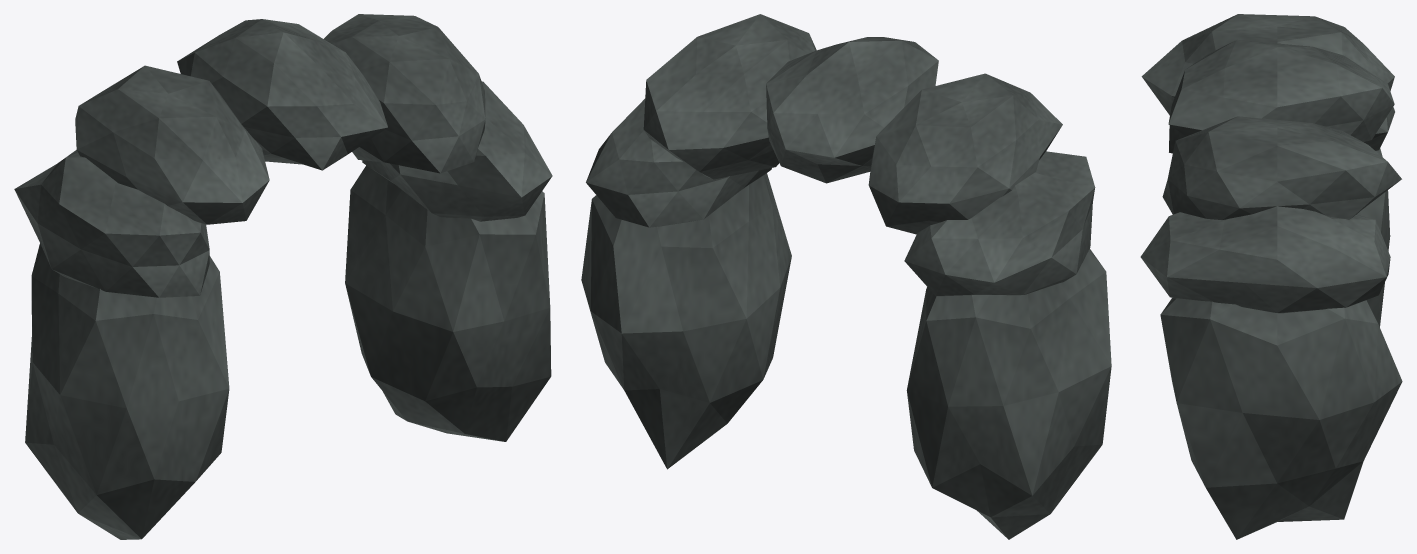
Rendered from sea_cave.glb.
3 views of the same model, side by side, from view 1: azimuth 30°, elevation 25°; view 2: azimuth 150°, elevation 25°; view 3: azimuth 270°, elevation 25° (orthographic). The views are drawn at different scales.
Visible parts, largest first — view 1: ArchPier, ArchPier.001, ArchCrown.003, ArchCrown.002, ArchCrown.004, ArchCrown.001, ArchCrown; view 2: ArchPier, ArchPier.001, ArchCrown.003, ArchCrown.001, ArchCrown.004, ArchCrown.002, ArchCrown; view 3: ArchPier.001, ArchCrown, ArchCrown.001, ArchCrown.002, ArchCrown.003, ArchPier, ArchCrown.004.
Boxes of the visible parts, x1,y1,x2,y2 form: ArchPier: (25,243,229,539); ArchPier.001: (345,165,551,441); ArchCrown.003: (75,65,269,224); ArchCrown.002: (177,19,387,170); ArchCrown.004: (14,150,209,297); ArchCrown.001: (324,14,485,173); ArchCrown: (362,81,552,221); ArchPier: (906,249,1111,539); ArchPier.001: (581,173,791,469); ArchCrown.003: (868,73,1062,234); ArchCrown.001: (643,14,816,179); ArchCrown.004: (904,151,1095,296); ArchCrown.002: (766,37,938,183); ArchCrown: (586,98,771,227); ArchPier.001: (1160,298,1402,539); ArchCrown: (1140,206,1390,313); ArchCrown.001: (1162,116,1401,219); ArchCrown.002: (1168,39,1394,142); ArchCrown.003: (1141,14,1394,115); ArchPier: (1357,148,1390,327); ArchCrown.004: (1169,107,1394,153).
Size of the model in its own units: 10.63 by 9.6 by 5.34.
1 material, 1 textured.
